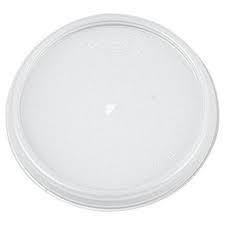Liquid: (4, 4, 225, 225)
